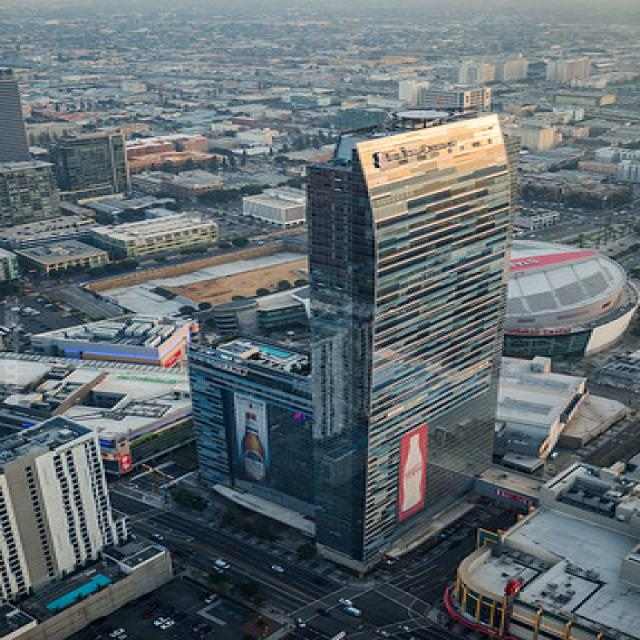building: (171, 104, 507, 584)
